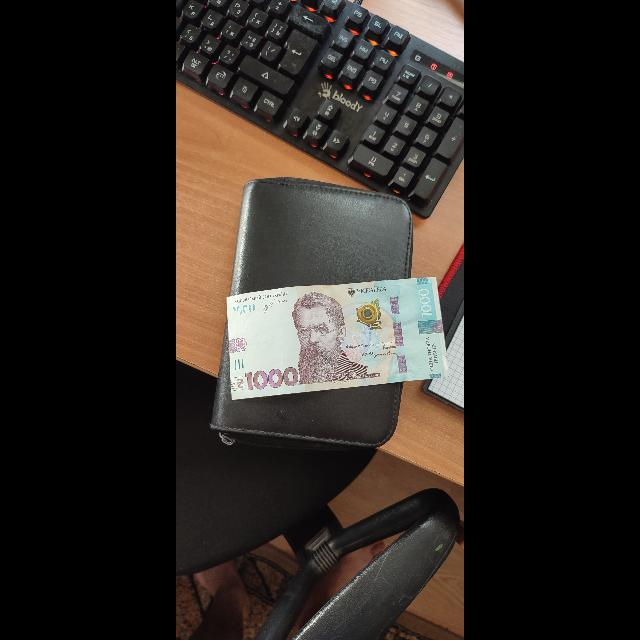1000uah: (225, 282, 449, 398)
